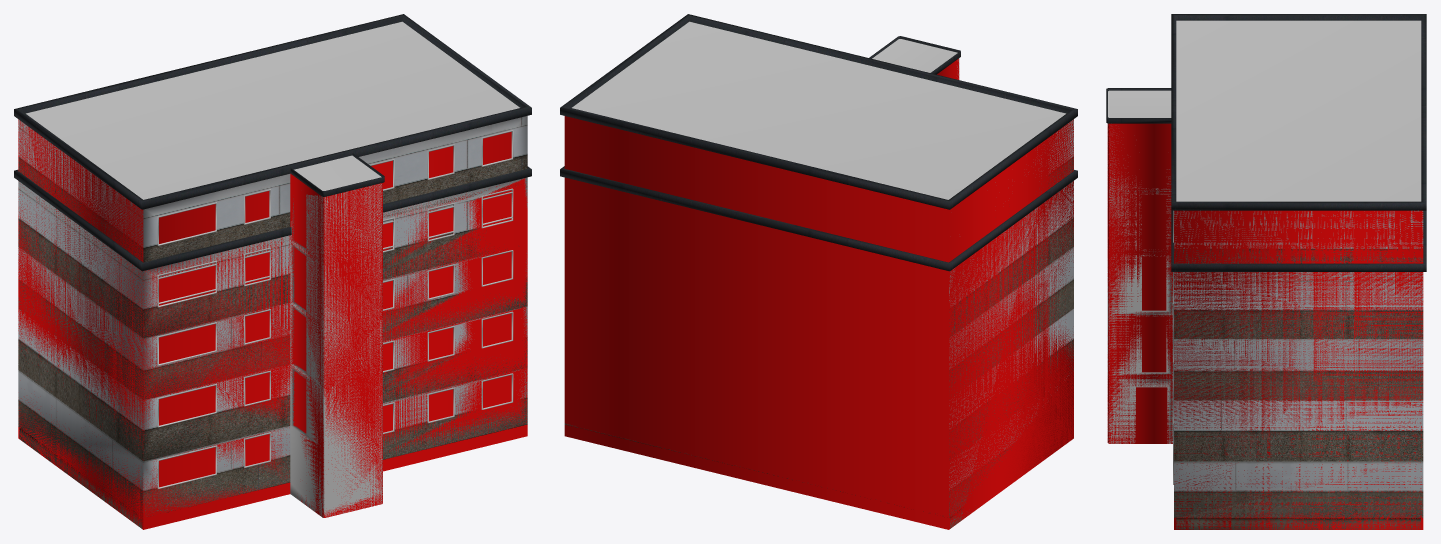
File: mehrfamilienhaus_04b.fbx
3 renders of one model, left to right at view 1: azimuth 30°, elevation 25°; view 2: azimuth 150°, elevation 25°; view 3: azimuth 270°, elevation 25°, orthographic.
Parts seen in each view (by area): view 1: mehrfamilienhaus_04b, mehrfamilienhaus_04a, colmesh_mehrfamilienhaus_04a, colmesh_mehrfamilienhaus_04b; view 2: colmesh_mehrfamilienhaus_04b, mehrfamilienhaus_04b, colmesh_mehrfamilienhaus_04a, mehrfamilienhaus_04a; view 3: mehrfamilienhaus_04b, mehrfamilienhaus_04a, colmesh_mehrfamilienhaus_04b, colmesh_mehrfamilienhaus_04a.
Boxes of the visible parts, x1,y1,x2,y2 form: mehrfamilienhaus_04b: (14,14,531,517); mehrfamilienhaus_04a: (14,166,531,528); colmesh_mehrfamilienhaus_04a: (18,178,527,529); colmesh_mehrfamilienhaus_04b: (18,119,511,529); colmesh_mehrfamilienhaus_04b: (564,58,1073,529); mehrfamilienhaus_04b: (560,14,1077,516); colmesh_mehrfamilienhaus_04a: (564,181,1073,529); mehrfamilienhaus_04a: (560,166,1077,528); mehrfamilienhaus_04b: (1106,14,1426,443); mehrfamilienhaus_04a: (1171,210,1426,529); colmesh_mehrfamilienhaus_04b: (1107,123,1423,529); colmesh_mehrfamilienhaus_04a: (1174,272,1423,529).
Size of the model in its own units: 1544 by 1245 by 1101.
